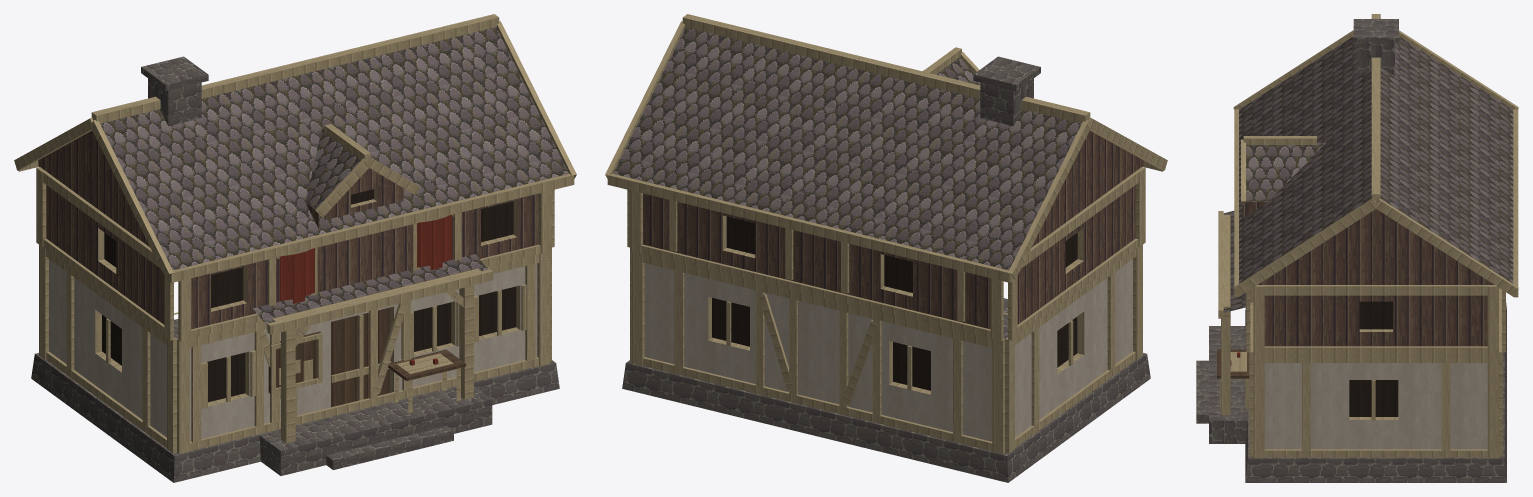
The model's file is command_post_stage1.glb.
3 renders of one model, left to right at view 1: azimuth 30°, elevation 25°; view 2: azimuth 150°, elevation 25°; view 3: azimuth 270°, elevation 25°, orthographic. The views are drawn at different scales.
Visible parts, largest first — view 1: command_post_stage1; view 2: command_post_stage1; view 3: command_post_stage1.
Part boxes in pixels (box(x1,y1,x2,y2)): command_post_stage1: box(14, 14, 576, 482); command_post_stage1: box(605, 14, 1167, 482); command_post_stage1: box(1196, 14, 1518, 482).
Size of the model in its own units: 8.78 by 7.05 by 6.56.
8 materials, 8 textured.
